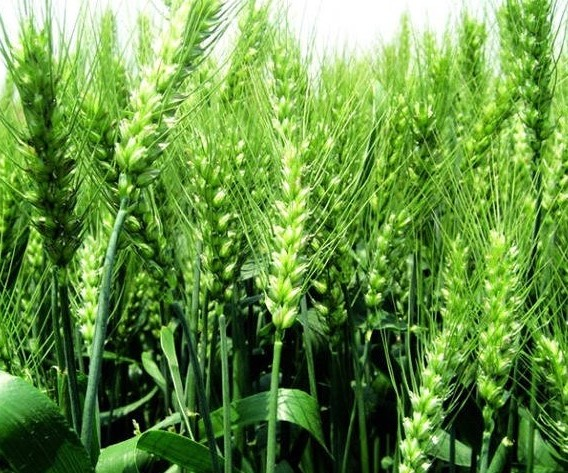Healthy Wheat: (258, 157, 317, 343), (393, 324, 467, 471)
